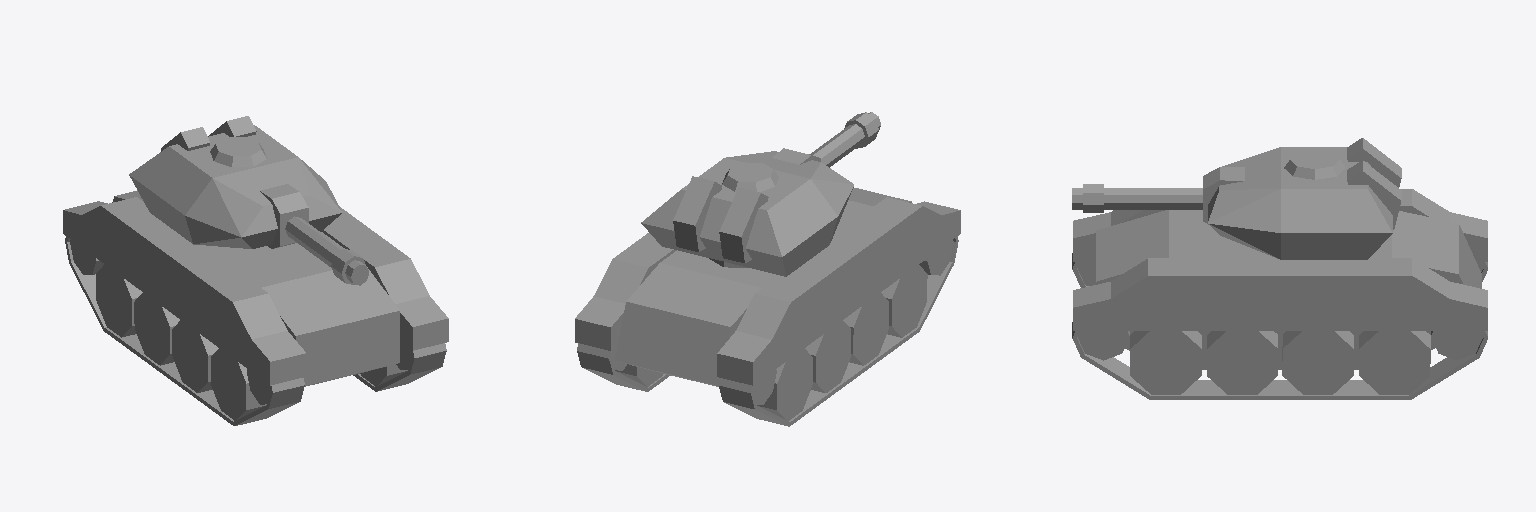
The model's file is Tank_1.obj.
3 views of the same model, side by side, from view 1: azimuth 30°, elevation 25°; view 2: azimuth 150°, elevation 25°; view 3: azimuth 270°, elevation 25° (orthographic).
Visible parts, largest first — view 1: Cube, Cube.002_Cube.014; view 2: Cube, Cube.002_Cube.014; view 3: Cube, Cube.002_Cube.014.
Boxes of the visible parts, x1,y1,x2,y2 form: Cube: [63, 190, 448, 425]; Cube.002_Cube.014: [129, 116, 368, 285]; Cube: [575, 188, 960, 426]; Cube.002_Cube.014: [641, 112, 880, 276]; Cube: [1072, 189, 1487, 399]; Cube.002_Cube.014: [1072, 138, 1401, 259].
Bounding box in the file's own units: 0.9819 × 1.07 × 1.99.